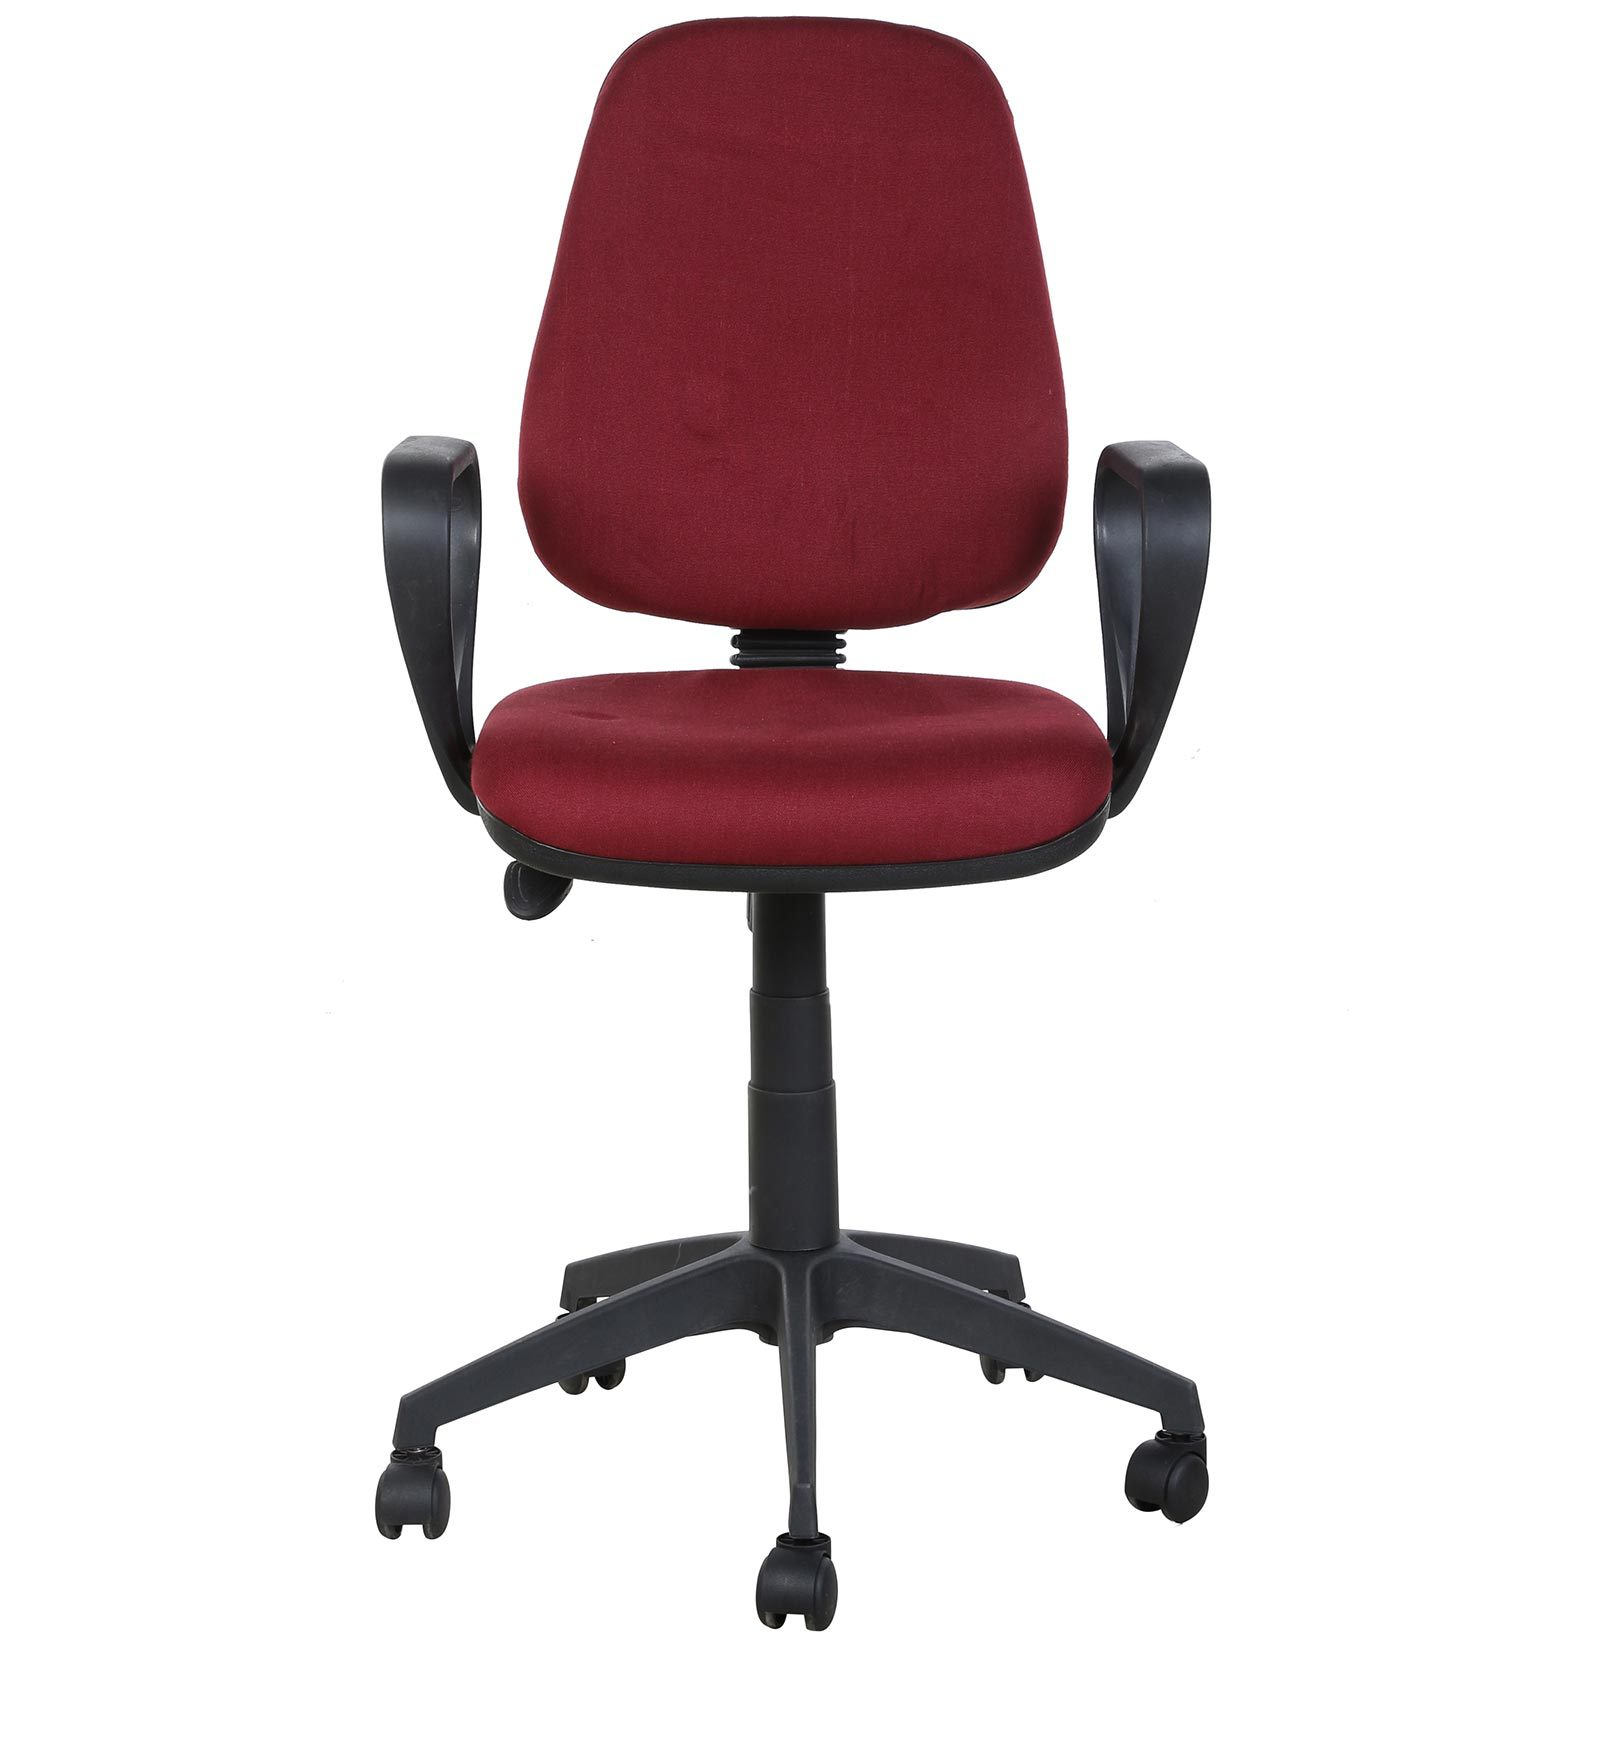Star Ergonomic Chair in Maroon Colour by Parin: (307, 15, 1307, 1683)
